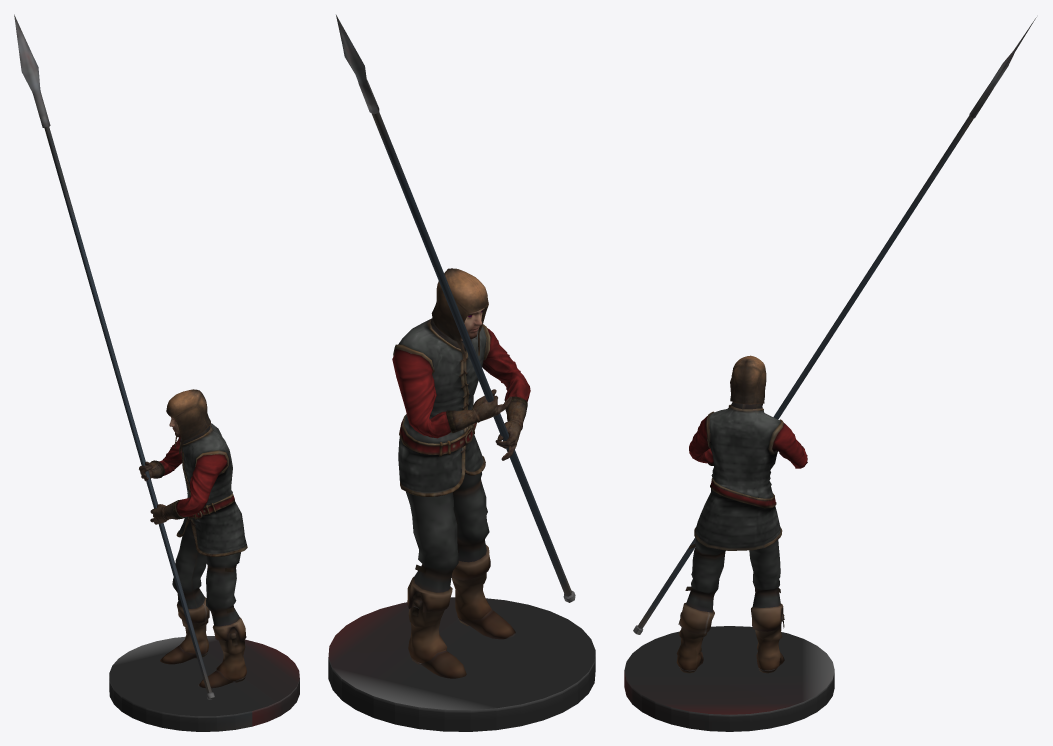
3 views of the same model, side by side, from view 1: azimuth 30°, elevation 25°; view 2: azimuth 150°, elevation 25°; view 3: azimuth 270°, elevation 25° (orthographic). The views are drawn at different scales.
Parts seen in each view (by area): view 1: pike2.smd; view 2: pike2.smd; view 3: pike2.smd.
Part boxes in pixels (x1,y1,x2,y2): pike2.smd: (14,14,299,731); pike2.smd: (328,15,595,731); pike2.smd: (624,17,1036,731).
Size of the model in its own units: 1 by 3.39 by 1.97.
1 material, 1 textured.
